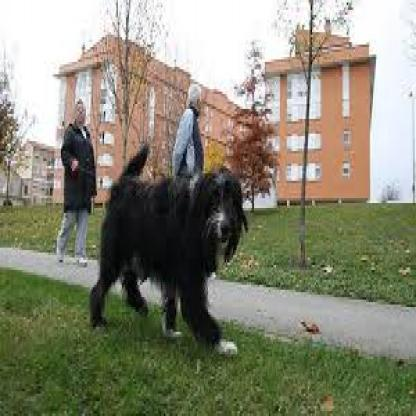dog: (97, 163, 240, 359)
